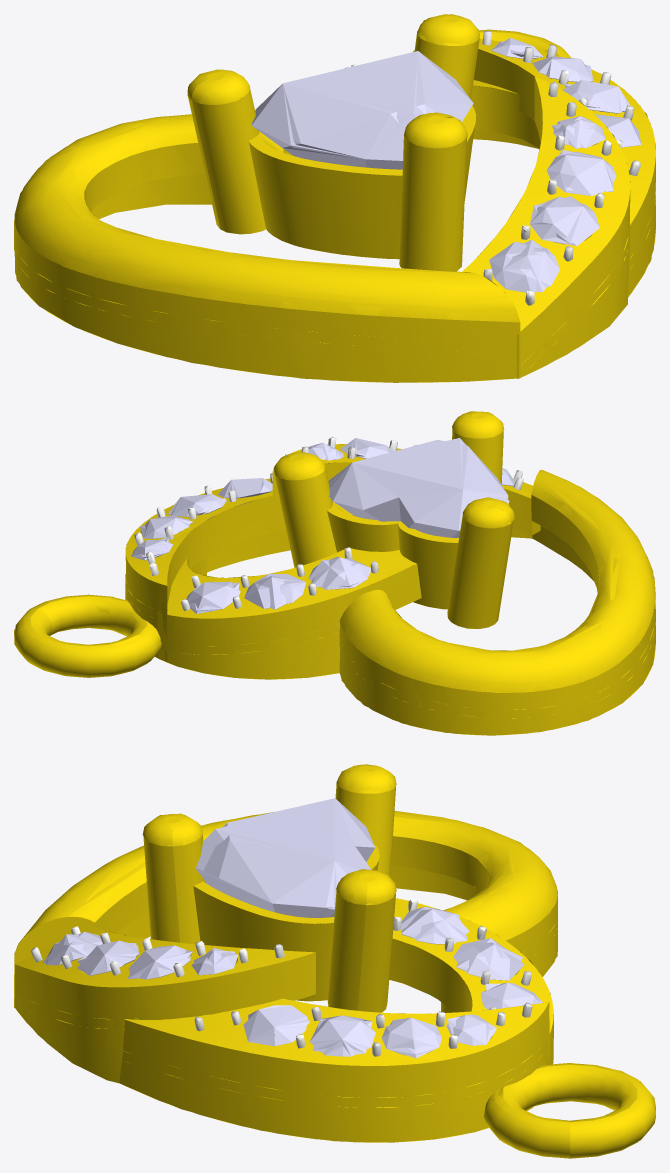
File: DPN-D000612024.glb
3 renders of one model, top to bottom at view 1: azimuth 30°, elevation 25°; view 2: azimuth 150°, elevation 25°; view 3: azimuth 270°, elevation 25°, orthographic. The views are drawn at different scales.
Visible parts, largest first — view 1: highPolyMesh, lowPolyMesh; view 2: highPolyMesh, lowPolyMesh; view 3: highPolyMesh, lowPolyMesh.
Boxes of the visible parts, box(x1,y1,x2,y2) form: highPolyMesh: box(14, 14, 655, 382); lowPolyMesh: box(14, 14, 655, 382); highPolyMesh: box(14, 411, 655, 735); lowPolyMesh: box(14, 411, 655, 735); highPolyMesh: box(14, 764, 655, 1157); lowPolyMesh: box(14, 764, 655, 1158).
Bounding box in the file's own units: 0.0127 × 0.00381 × 0.0118.
